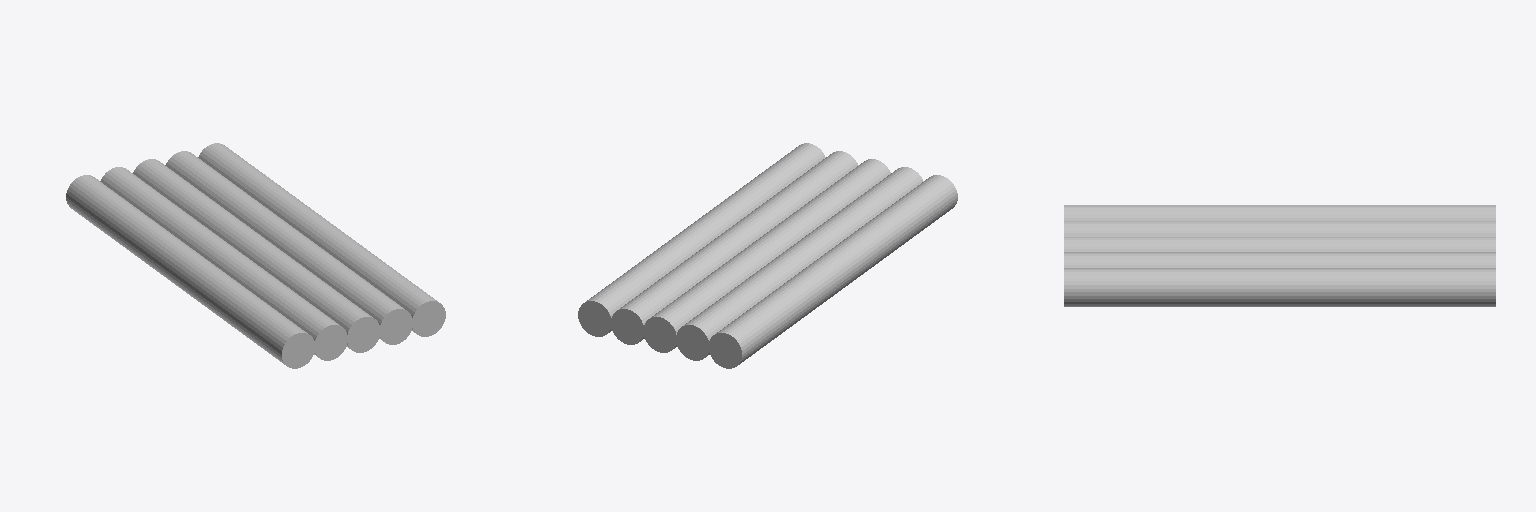
File: wood.obj
The picture shows the model from 3 angles: view 1: azimuth 30°, elevation 25°; view 2: azimuth 150°, elevation 25°; view 3: azimuth 270°, elevation 25°; orthographic projection.
Parts seen in each view (by area): view 1: 丸太.004_Cylinder.008; view 2: 丸太.004_Cylinder.008; view 3: 丸太.004_Cylinder.008.
Part boxes in pixels (left/top/right/bottom): 丸太.004_Cylinder.008: left=66, top=143, right=445, bottom=368; 丸太.004_Cylinder.008: left=578, top=143, right=957, bottom=368; 丸太.004_Cylinder.008: left=1064, top=205, right=1495, bottom=306.
Size of the model in its own units: 1.51 by 0.3107 by 3.44.